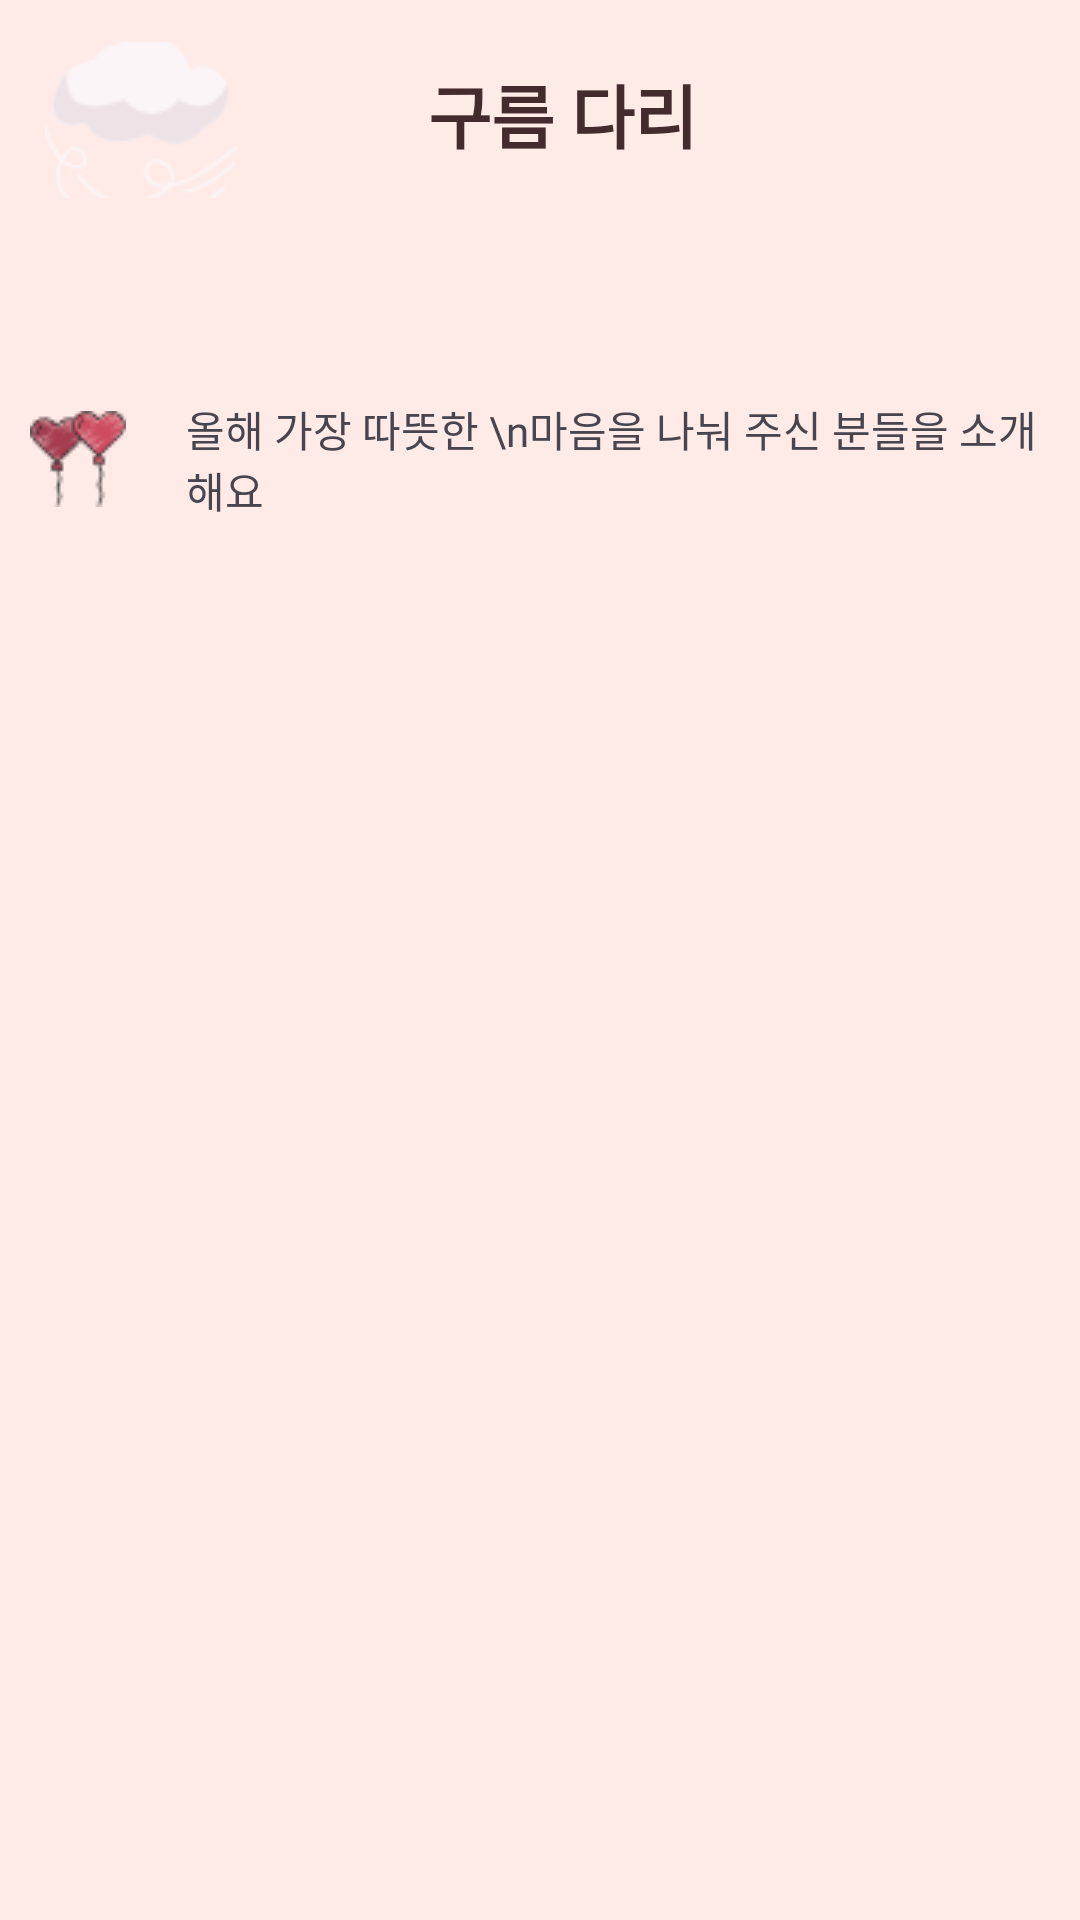

Icon bounding boxes for this 1080*1920 phone screenshot, format box(x1, y1, x2, y2):
heart: box(30, 411, 126, 507)
